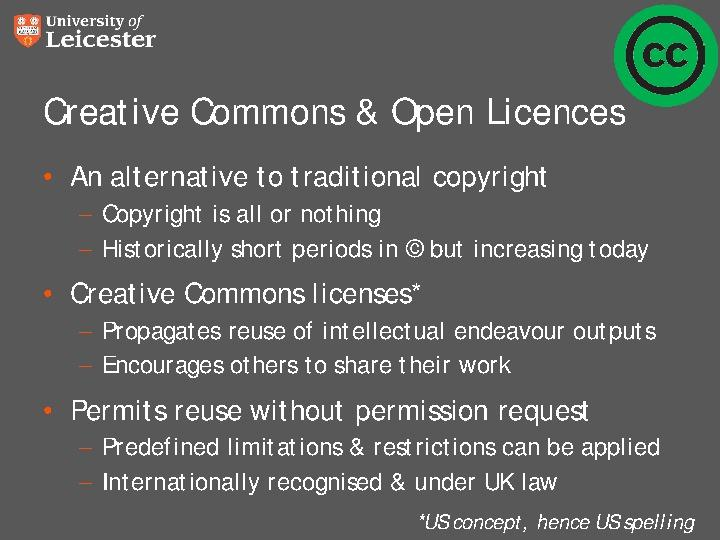paragraph: (34, 152, 685, 503)
title: (34, 84, 635, 147)
